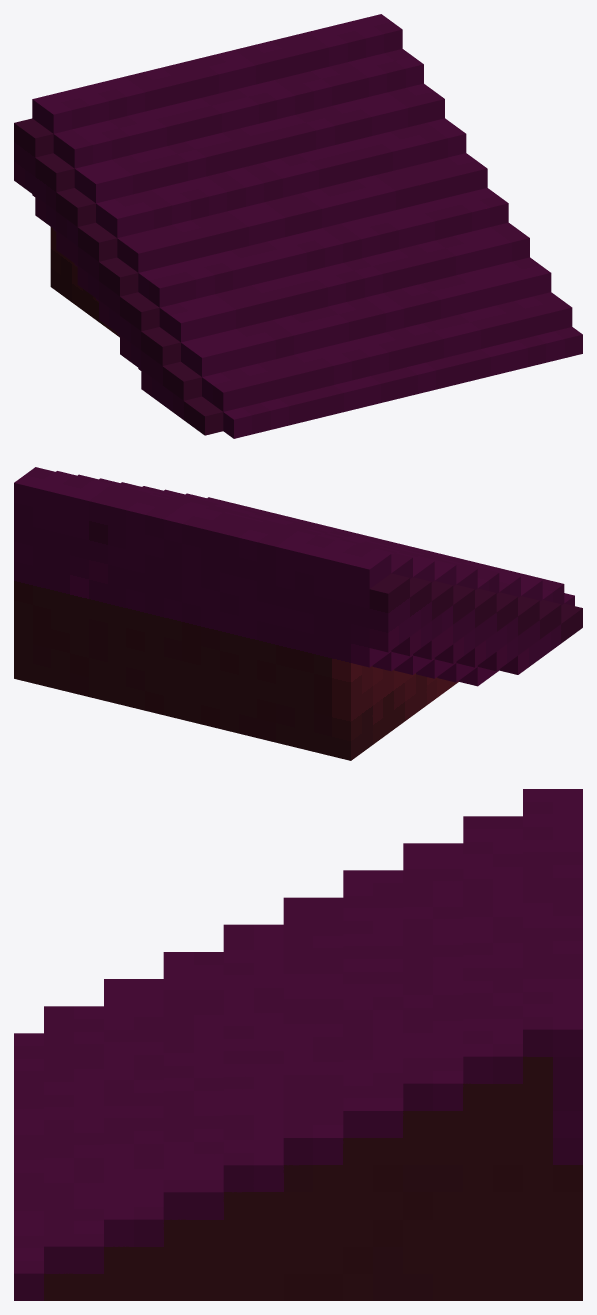
The model's file is half_top_ramp_bot_left.glb.
3 renders of one model, top to bottom at view 1: azimuth 30°, elevation 25°; view 2: azimuth 150°, elevation 25°; view 3: azimuth 270°, elevation 25°, orthographic. The views are drawn at different scales.
Parts seen in each view (by area): view 1: half_top_ramp_bot_left; view 2: half_top_ramp_bot_left; view 3: half_top_ramp_bot_left.
Boxes of the visible parts, left/top/right/bottom form: half_top_ramp_bot_left: left=14, top=14, right=582, bottom=438; half_top_ramp_bot_left: left=14, top=467, right=582, bottom=760; half_top_ramp_bot_left: left=14, top=789, right=582, bottom=1300.
Bounding box in the file's own units: 2 × 1 × 1.9.
Materials: 1 (1 with a texture image).
